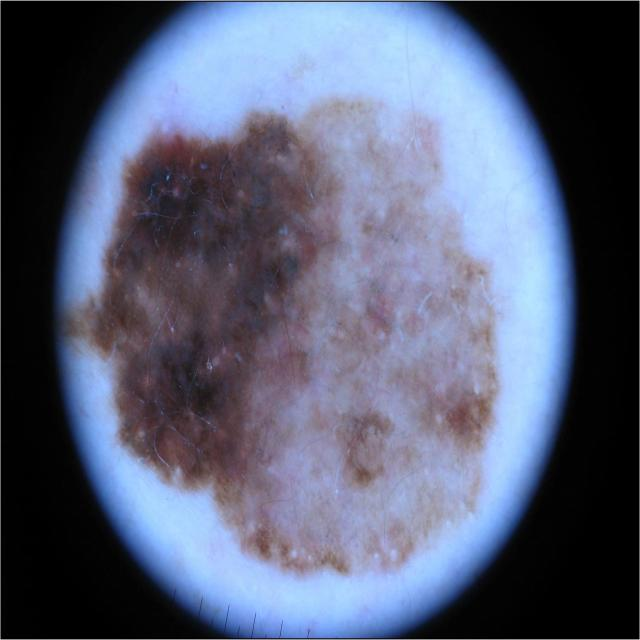Melanoma: (65, 95, 501, 578)
